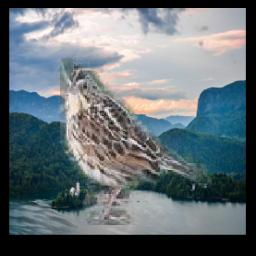Sparrow: (60, 58, 212, 226)
